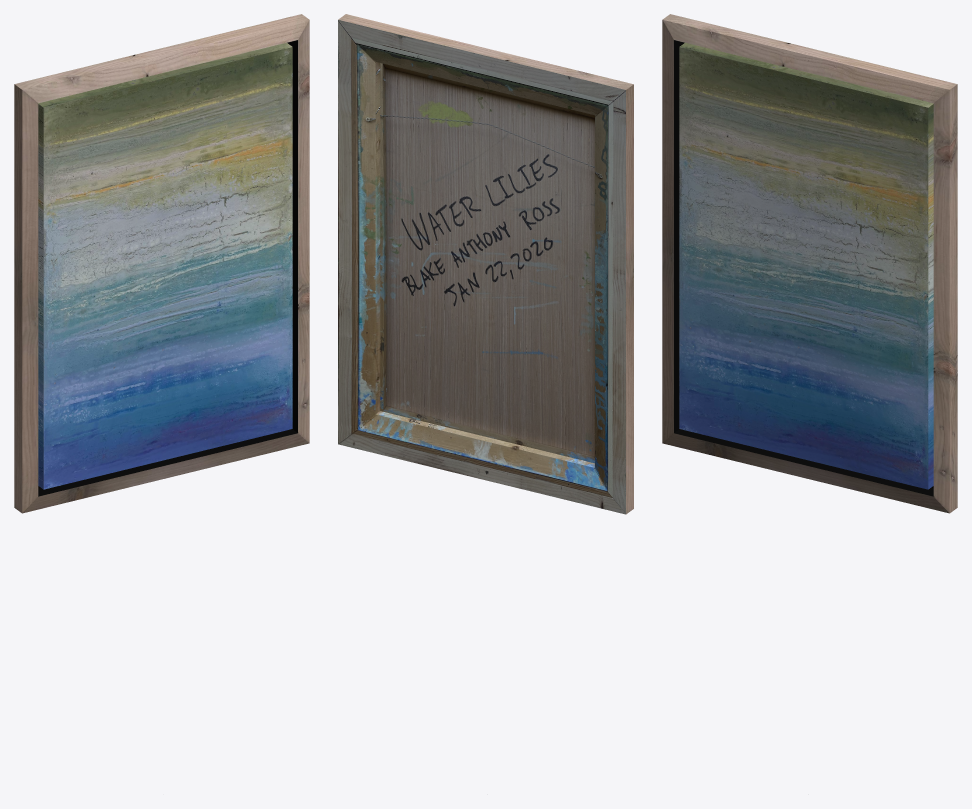
Rendered from water-lilies.gltf.
3 views of the same model, side by side, from view 1: azimuth 30°, elevation 25°; view 2: azimuth 150°, elevation 25°; view 3: azimuth 330°, elevation 25° (orthographic).
Parts seen in each view (by area): view 1: painting; view 2: painting; view 3: painting.
Part boxes in pixels (<box>): painting: <box>14,14,309,513</box>; painting: <box>338,14,633,514</box>; painting: <box>662,14,957,513</box>.
Size of the model in its own units: 0.6763 by 1.67 by 0.0413.
Materials: 4 (3 with a texture image).
